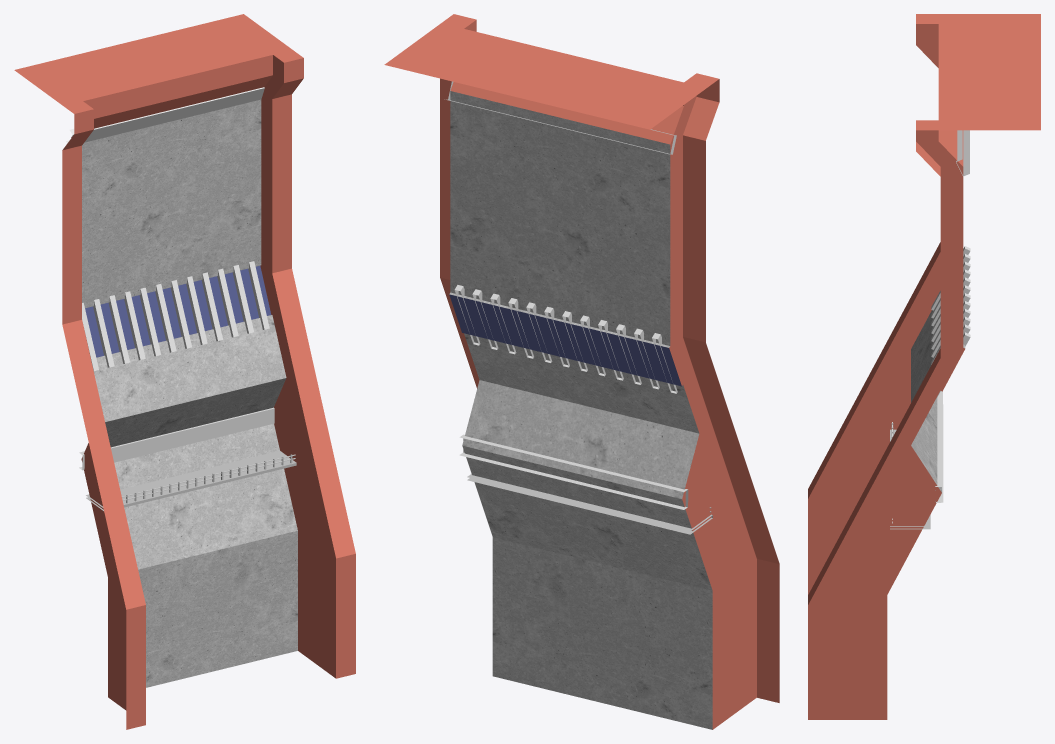
The model's file is Wall.fbx.
3 views of the same model, side by side, from view 1: azimuth 30°, elevation 25°; view 2: azimuth 150°, elevation 25°; view 3: azimuth 270°, elevation 25° (orthographic). The views are drawn at different scales.
Parts seen in each view (by area): view 1: MainStructure, MetalPipes, Floor, BottomMetalDivider, TopMetalDivider, HorizontalRailing; view 2: MainStructure, MetalPipes, BottomMetalDivider, Floor; view 3: MainStructure, MetalPipes, BottomMetalDivider, TopMetalDivider.
Boxes of the visible parts, x1,y1,x2,y2 form: MainStructure: [14, 14, 355, 729]; MetalPipes: [82, 261, 269, 371]; Floor: [86, 451, 296, 510]; BottomMetalDivider: [79, 407, 274, 470]; TopMetalDivider: [66, 87, 264, 143]; HorizontalRailing: [122, 454, 295, 500]; MainStructure: [384, 14, 779, 729]; MetalPipes: [454, 285, 677, 393]; BottomMetalDivider: [459, 434, 688, 509]; Floor: [467, 474, 712, 534]; MainStructure: [808, 14, 1040, 719]; MetalPipes: [931, 246, 970, 398]; BottomMetalDivider: [935, 391, 943, 502]; TopMetalDivider: [956, 130, 969, 176].
Size of the model in its own units: 22.12 by 53.16 by 18.7.
